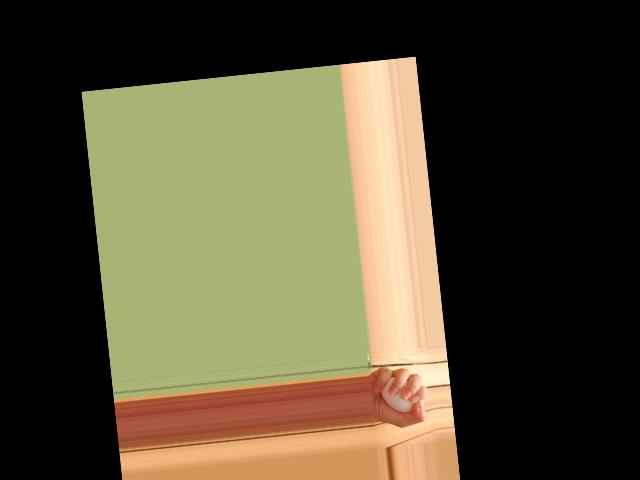egg: (379, 374, 416, 414)
